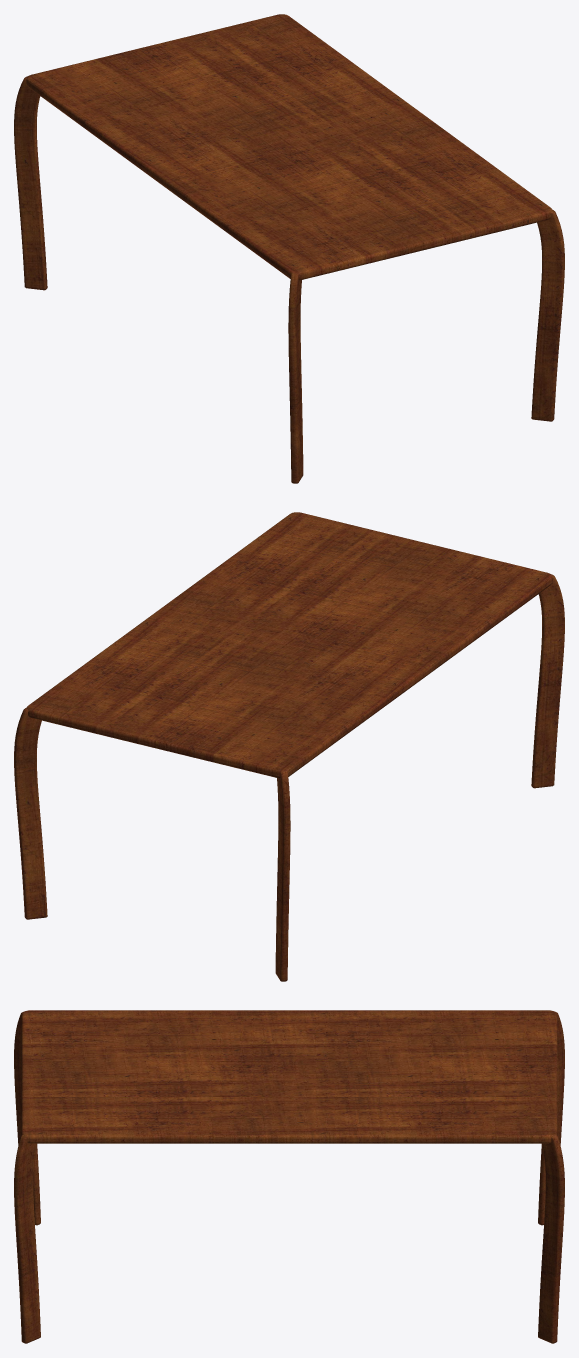
Rendered from Table_small.obj.
3 renders of one model, top to bottom at view 1: azimuth 30°, elevation 25°; view 2: azimuth 150°, elevation 25°; view 3: azimuth 270°, elevation 25°, orthographic.
Visible parts, largest first — view 1: Object02; view 2: Object02; view 3: Object02.
Boxes of the visible parts, x1,y1,x2,y2 form: Object02: [14, 14, 564, 483]; Object02: [14, 512, 564, 981]; Object02: [14, 1010, 564, 1343].
Size of the model in its own units: 816 by 595 by 1428.
Materials: 1 (1 with a texture image).
